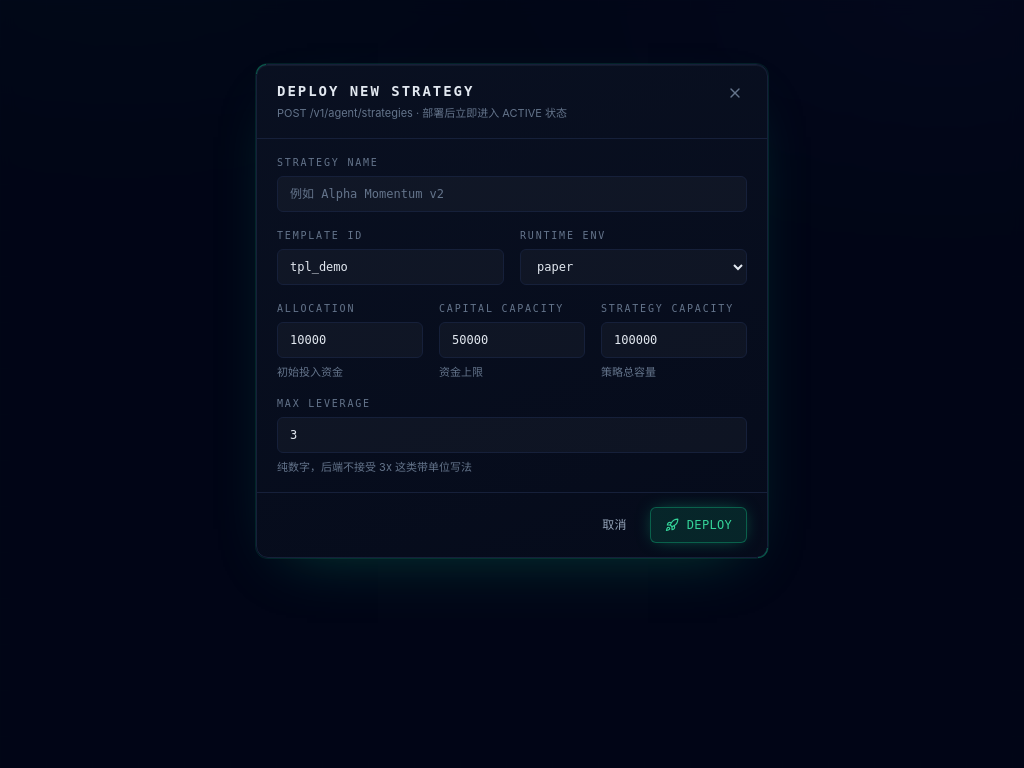
Test case: CreateStrategyModal › 名称为空时阻止提交并提示
This screenshot has width=1024, height=768.
Click the button "DEPLOY" at (698, 524), box [650,506,747,542]
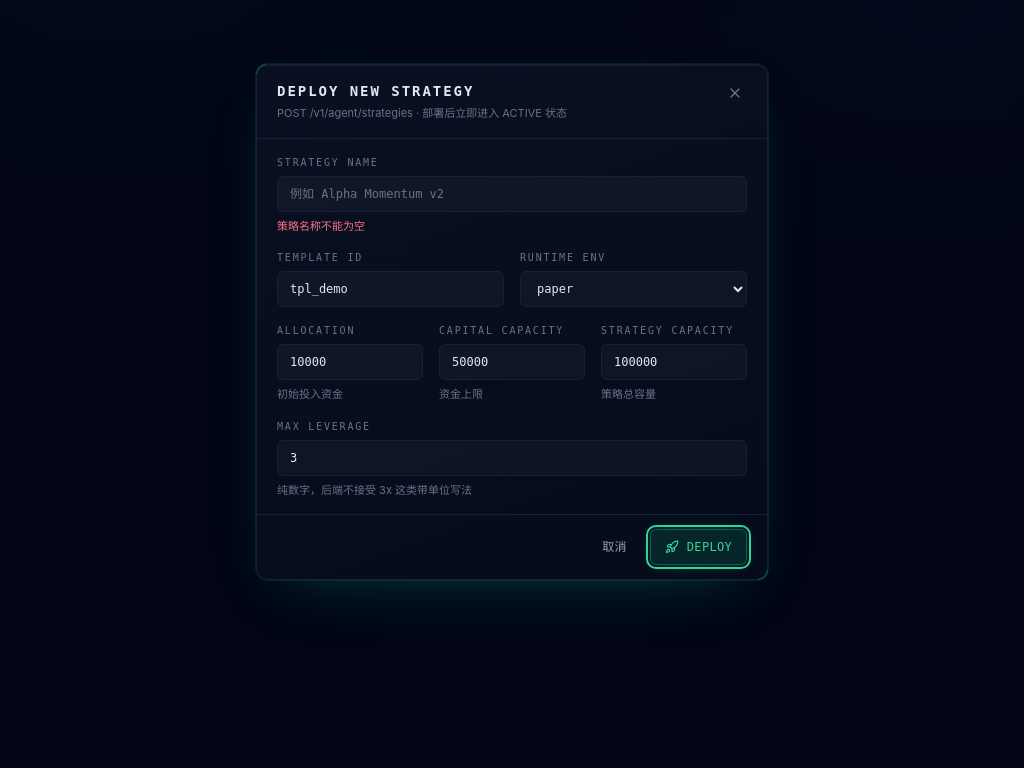
Now the text "策略名称不能为空" is shown, box [277,218,365,232]
